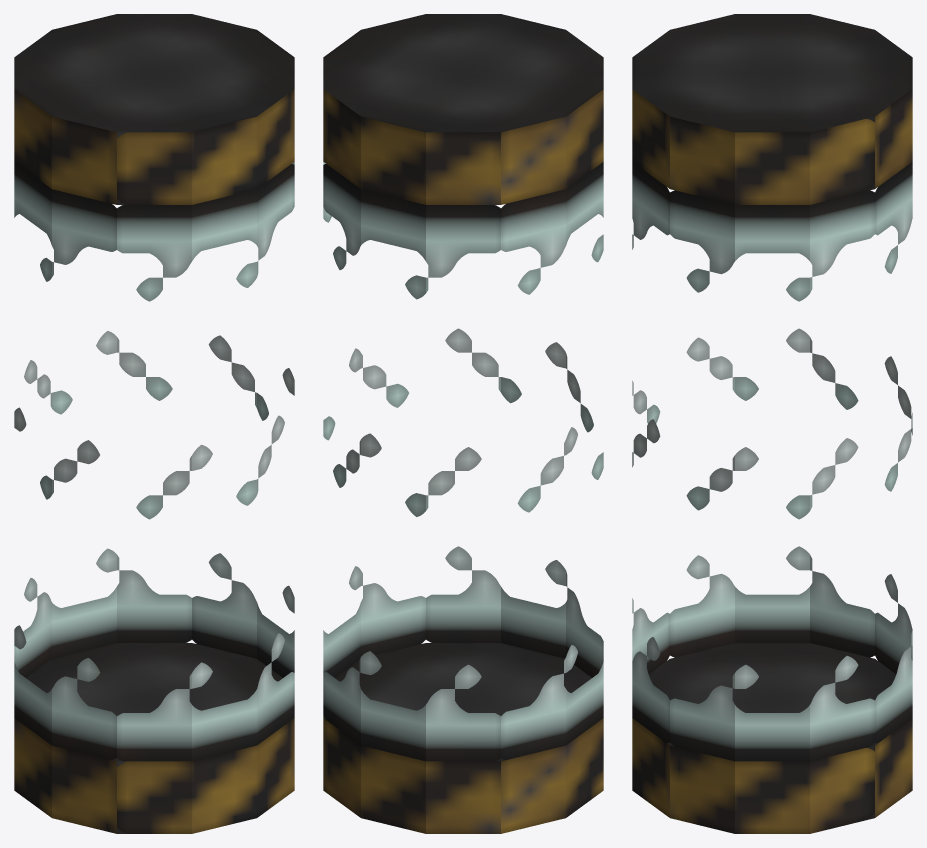
File: centrifuge_cylinder.obj
The picture shows the model from 3 angles, left to right: view 1: azimuth 30°, elevation 25°; view 2: azimuth 150°, elevation 25°; view 3: azimuth 270°, elevation 25°; orthographic projection.
Visible parts, largest first — view 1: tube; view 2: tube; view 3: tube.
Part boxes in pixels (x1,y1,x2,y2): tube: [14, 14, 294, 833]; tube: [323, 14, 603, 833]; tube: [632, 14, 912, 833].
Size of the model in its own units: 0.6562 by 1.81 by 0.6562.
